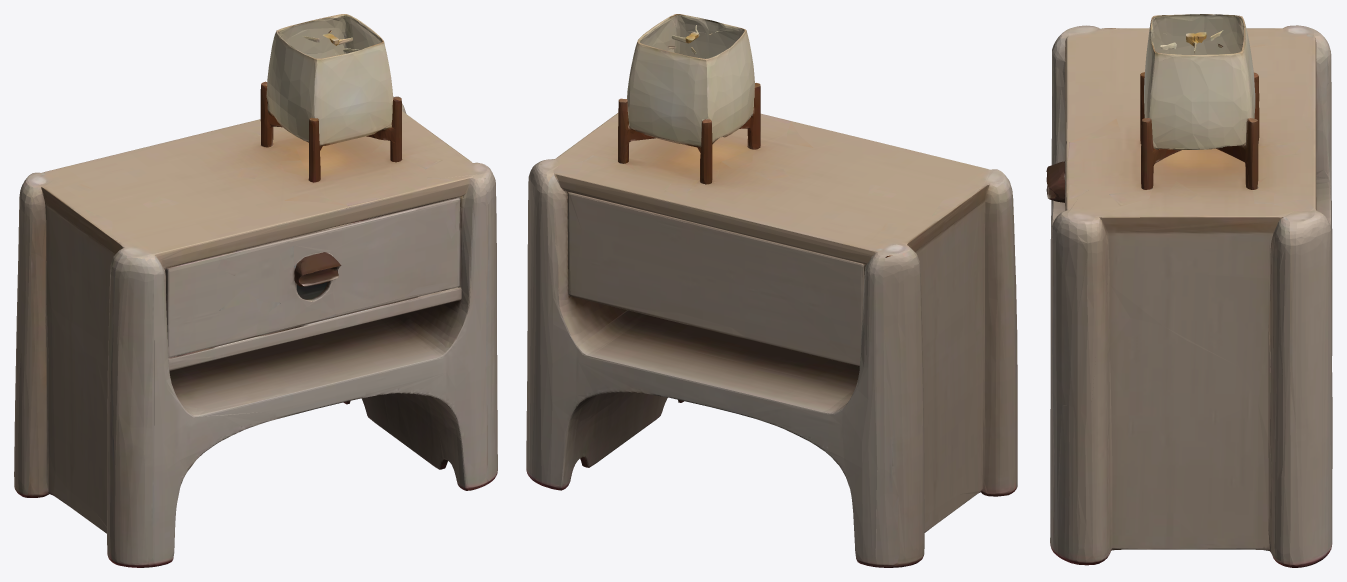
File: nightstand_lantern_cream.glb
3 renders of one model, left to right at view 1: azimuth 30°, elevation 25°; view 2: azimuth 150°, elevation 25°; view 3: azimuth 270°, elevation 25°, orthographic. The views are drawn at different scales.
Visible parts, largest first — view 1: geometry_0; view 2: geometry_0; view 3: geometry_0.
Part boxes in pixels (x1=…): geometry_0: x1=14, y1=14, x2=497, y2=567; geometry_0: x1=526, y1=14, x2=1017, y2=567; geometry_0: x1=1046, y1=14, x2=1332, y2=567.
Bounding box in the file's own units: 0.9544 × 0.9969 × 0.5484.
Materials: 1 (1 with a texture image).
